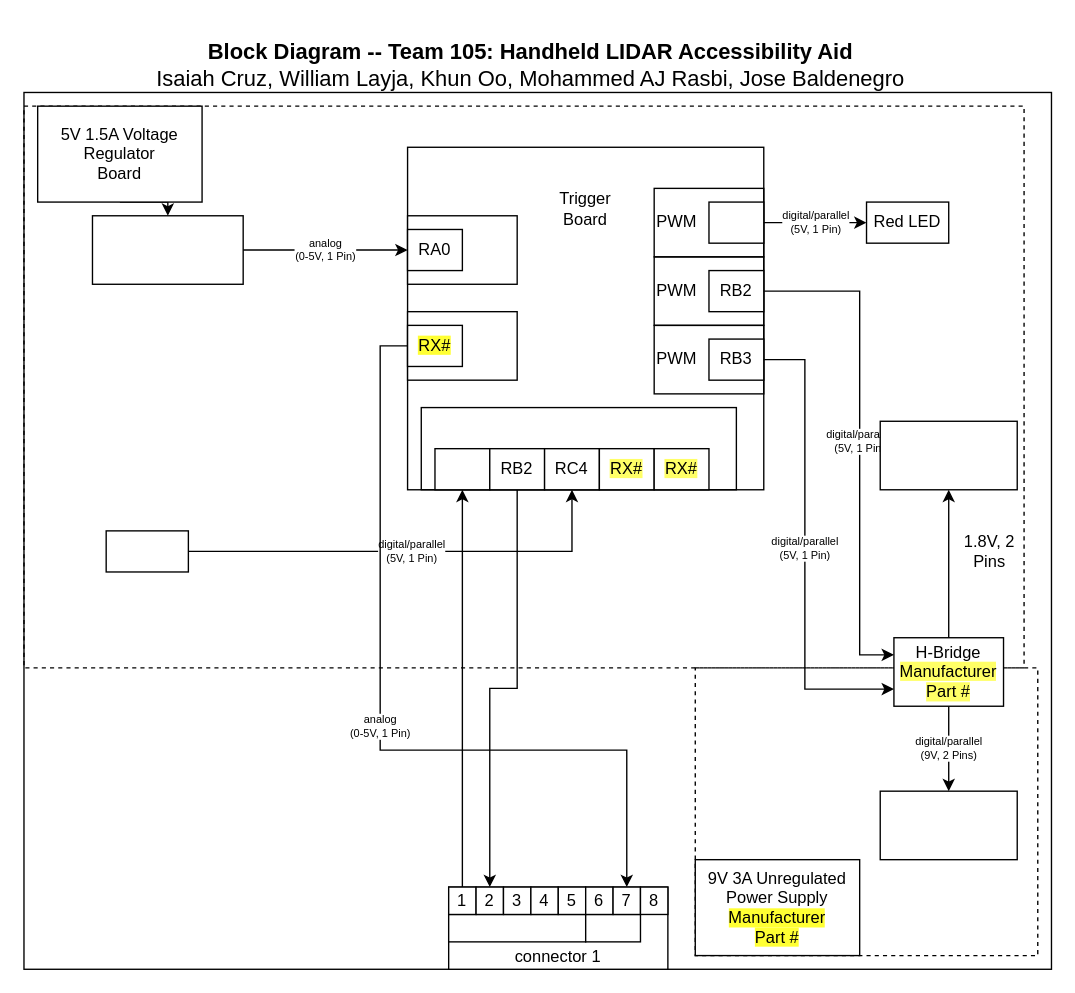
The diagram is 1075 pixels wide and 993 high, and some of its shapes have lost their labels. Each missing label, with the box of its shape:
ADC1: (406, 214, 517, 284)
analog: (584, 913, 640, 942)
DAC1: (406, 310, 517, 380)
digital: (447, 913, 586, 942)
Digital I/O: (420, 406, 736, 490)
Laser Board: (879, 420, 1017, 490)
Microchip PIC18F57Q43 Curiosity Nano: (406, 146, 764, 490)
Motor Board: (879, 790, 1017, 860)
Op Amp Manufacturer Part #: (91, 214, 243, 284)
RA1: (434, 447, 490, 490)
RB1: (708, 201, 764, 243)
Trigger (Button 1): (105, 530, 188, 572)
